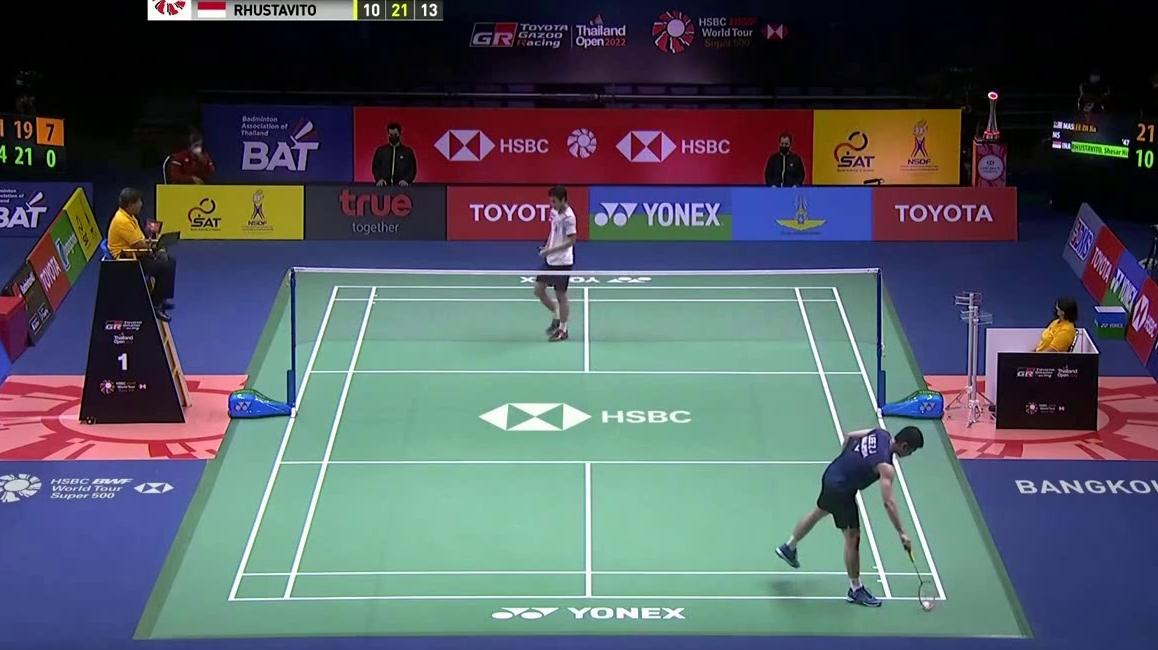racket: (906, 547, 938, 613)
shuttle: (922, 600, 930, 611)
